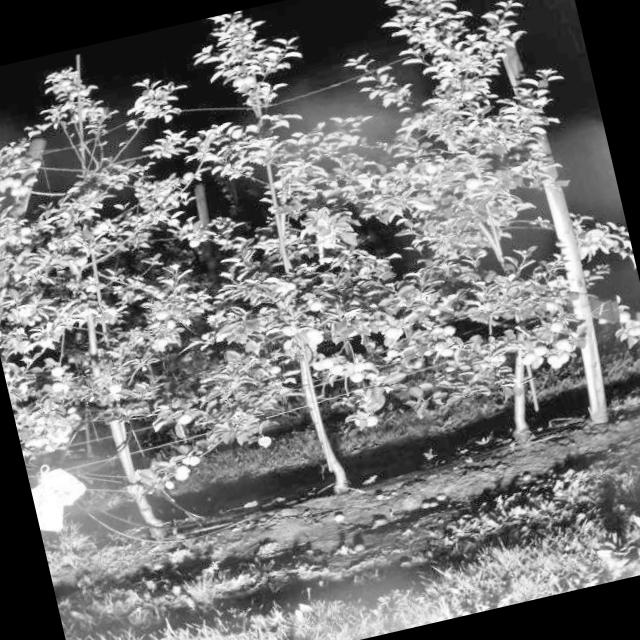Tree: (151, 0, 422, 517), (0, 44, 237, 561), (329, 0, 592, 464)
